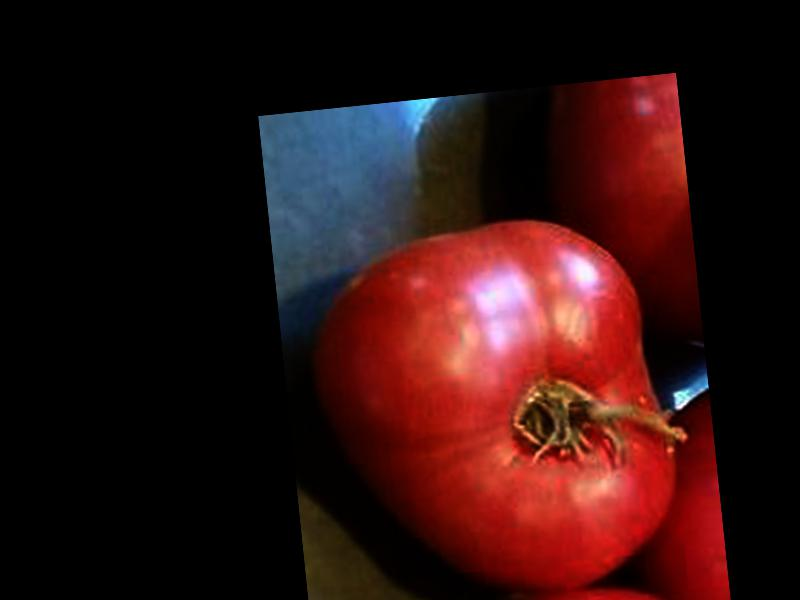Tomato: (301, 205, 687, 600)
